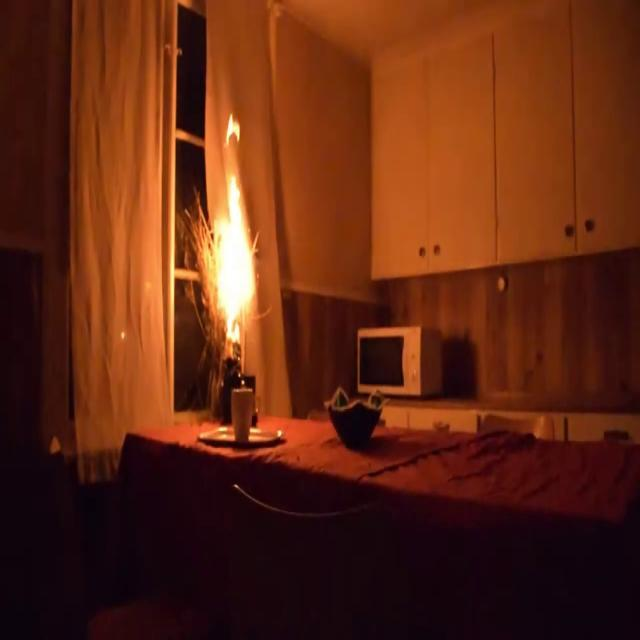Fire: (208, 116, 264, 348)
